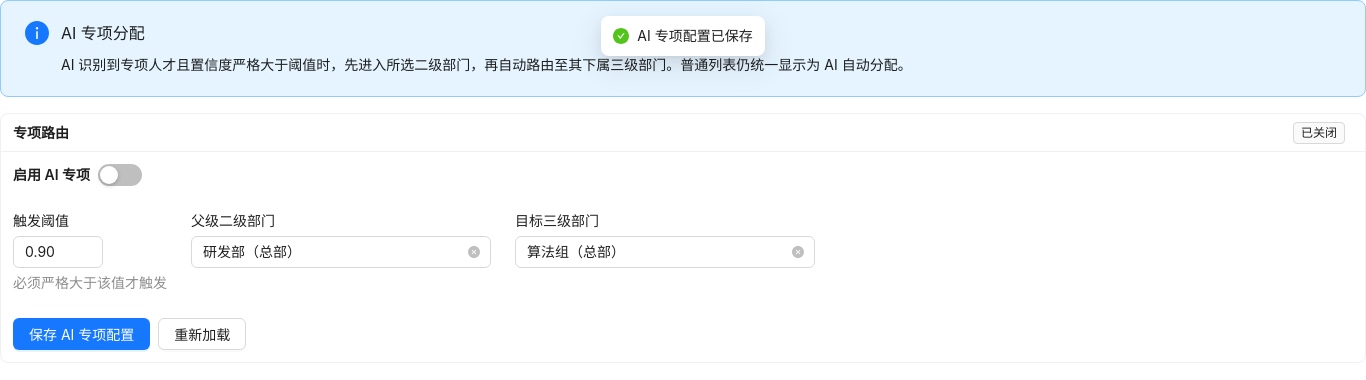
Test case: AISpecialSettingsTab › only offers tertiary departments under the selected secondary department
The width and height of the screenshot is (1366, 380).
Click the dropdown named "AI 专项父级二级部门": point(332, 252) [203, 237, 461, 267]
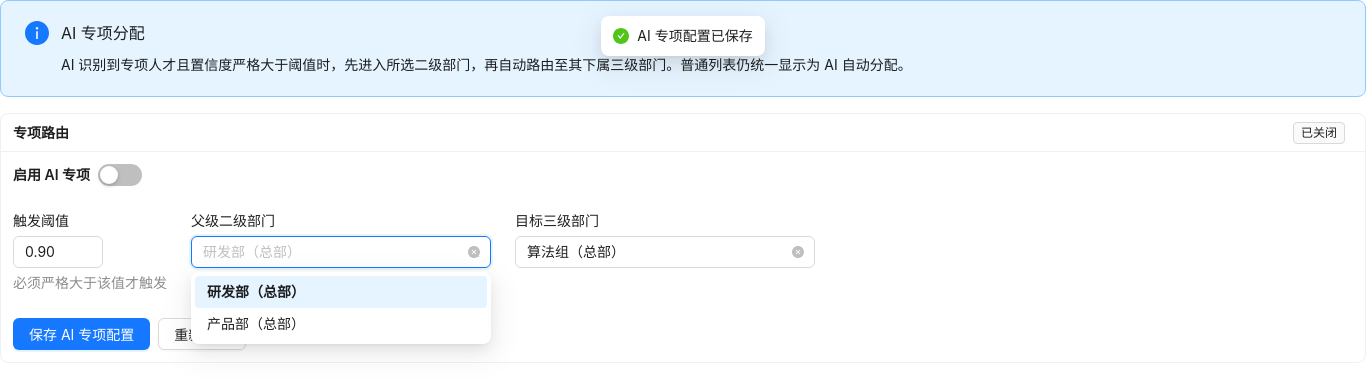
Click the text "产品部（总部）": point(256, 324) [207, 315, 305, 332]
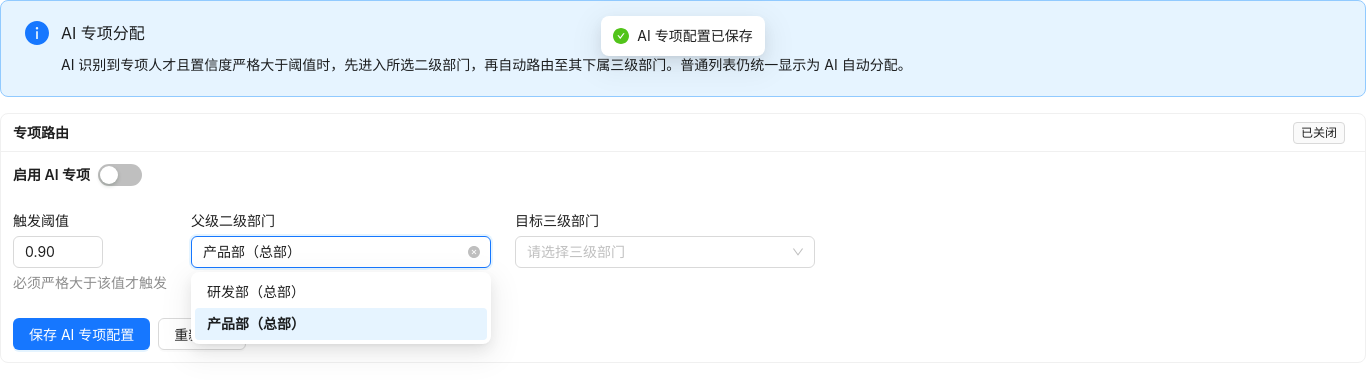
Click the dropdown named "AI 专项目标三级部门": point(656, 252) [527, 237, 785, 267]
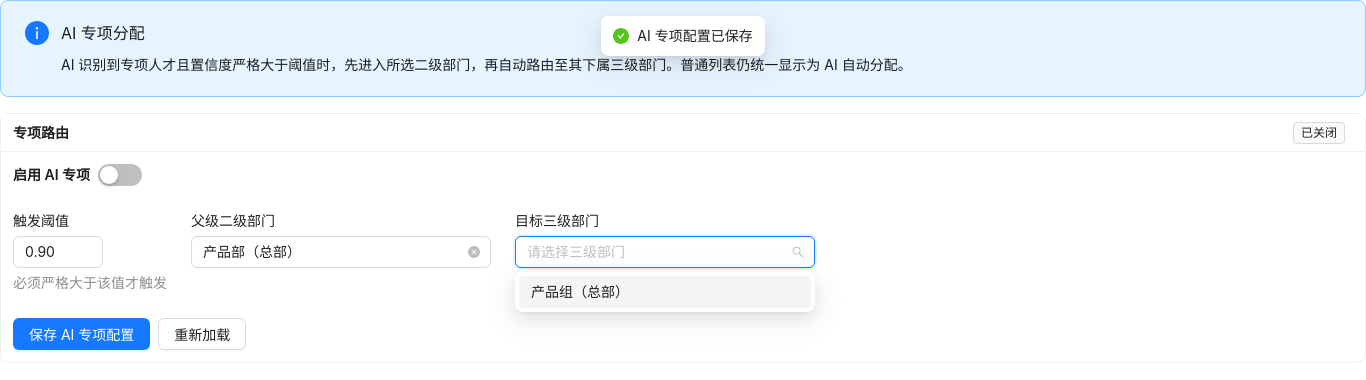
expect the text "算法组（总部）" is not shown: met
expect the text "产品组（总部）" is shown: met, box [531, 283, 629, 300]
